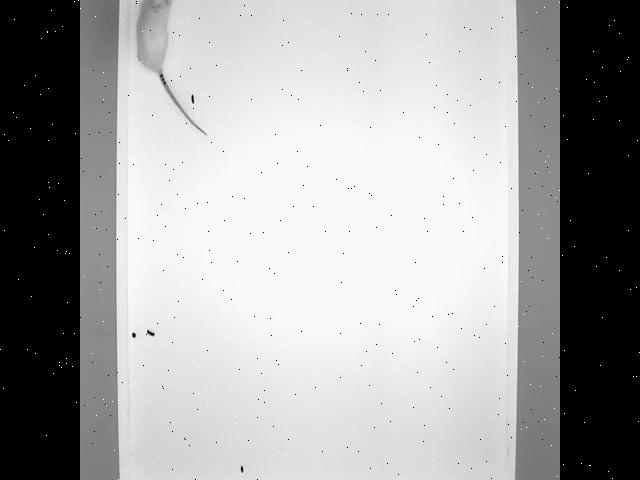Tikus: (132, 0, 206, 137)
